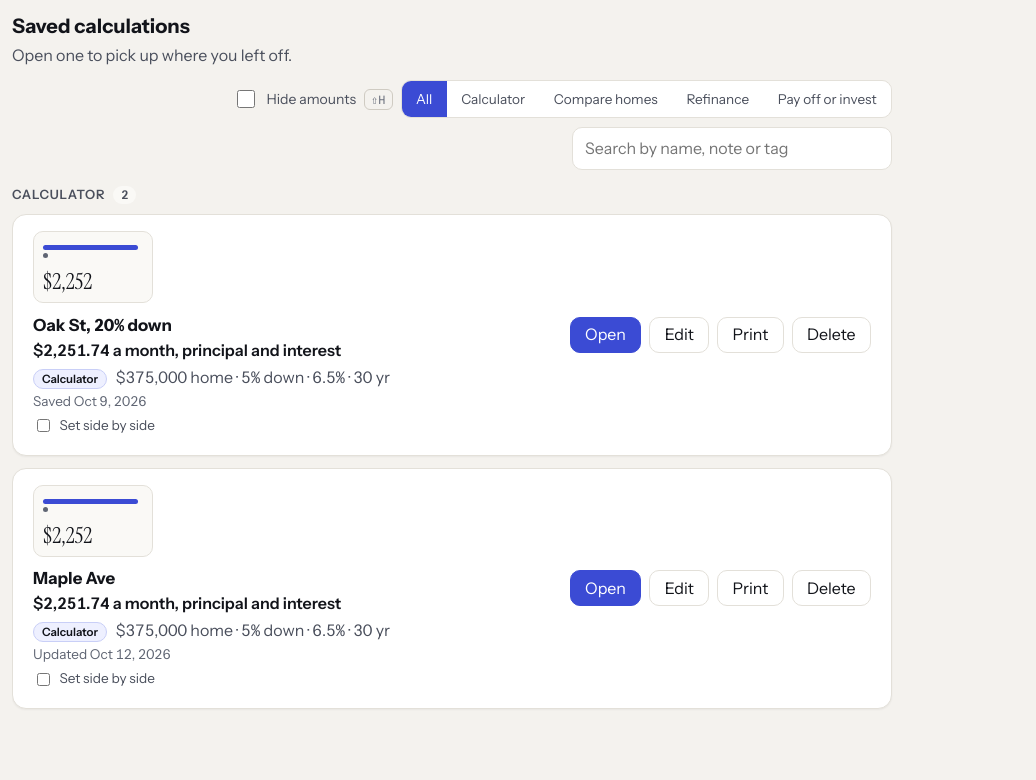
HistoryPageComponent › the list › privacy mode › masks every dollar amount, keeping its shape, until it is asked for
Click the switch labelled "Hide amounts ⇧H" at {"x": 246, "y": 99}, box [237,90,255,108]
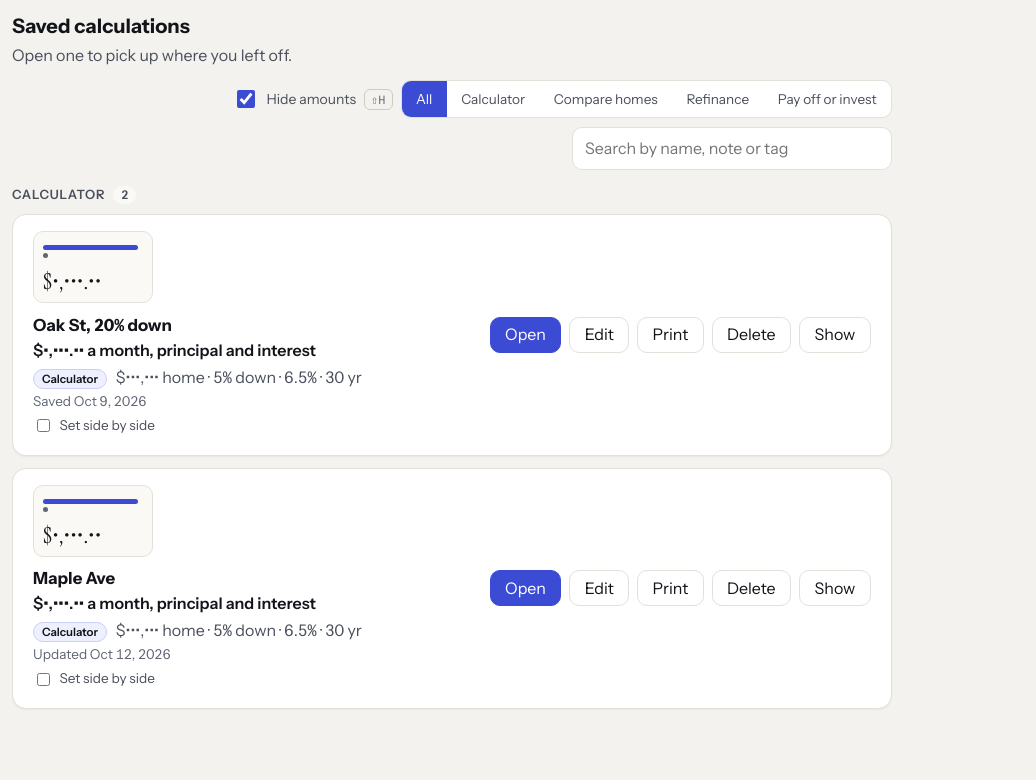
Check: the element with class "summary" below "Oak St, 20% down" shows "5% down", box [113,367,362,387]
Check: the text with test id "history-figure" below "Oak St, 20% down" reads "$•,•••.•• a month, principal and interest", box [33,340,316,360]
Check: the element with class "summary" below "Oak St, 20% down" shows "$•••,••• home", box [113,367,362,387]
